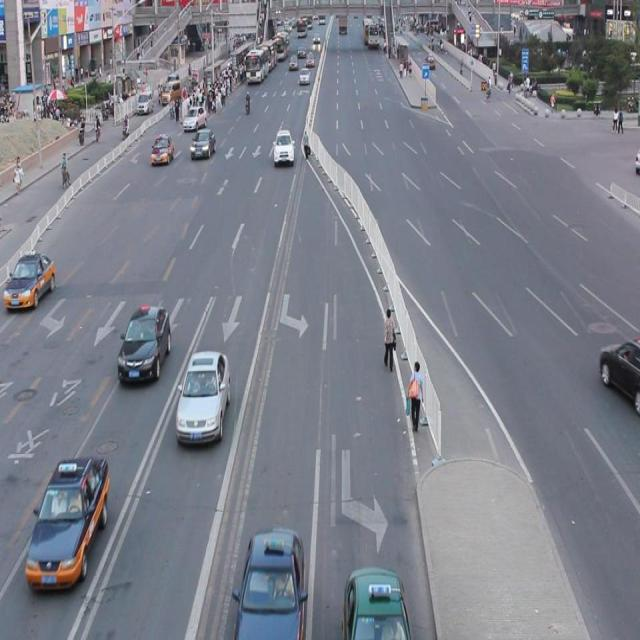car: (26, 455, 110, 589), (232, 524, 304, 640), (174, 348, 230, 445), (342, 563, 410, 640), (117, 304, 171, 386), (1, 249, 56, 310), (596, 333, 640, 409), (272, 128, 294, 166), (150, 135, 174, 166)
